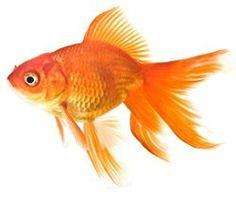goldfish: (8, 18, 217, 164)
